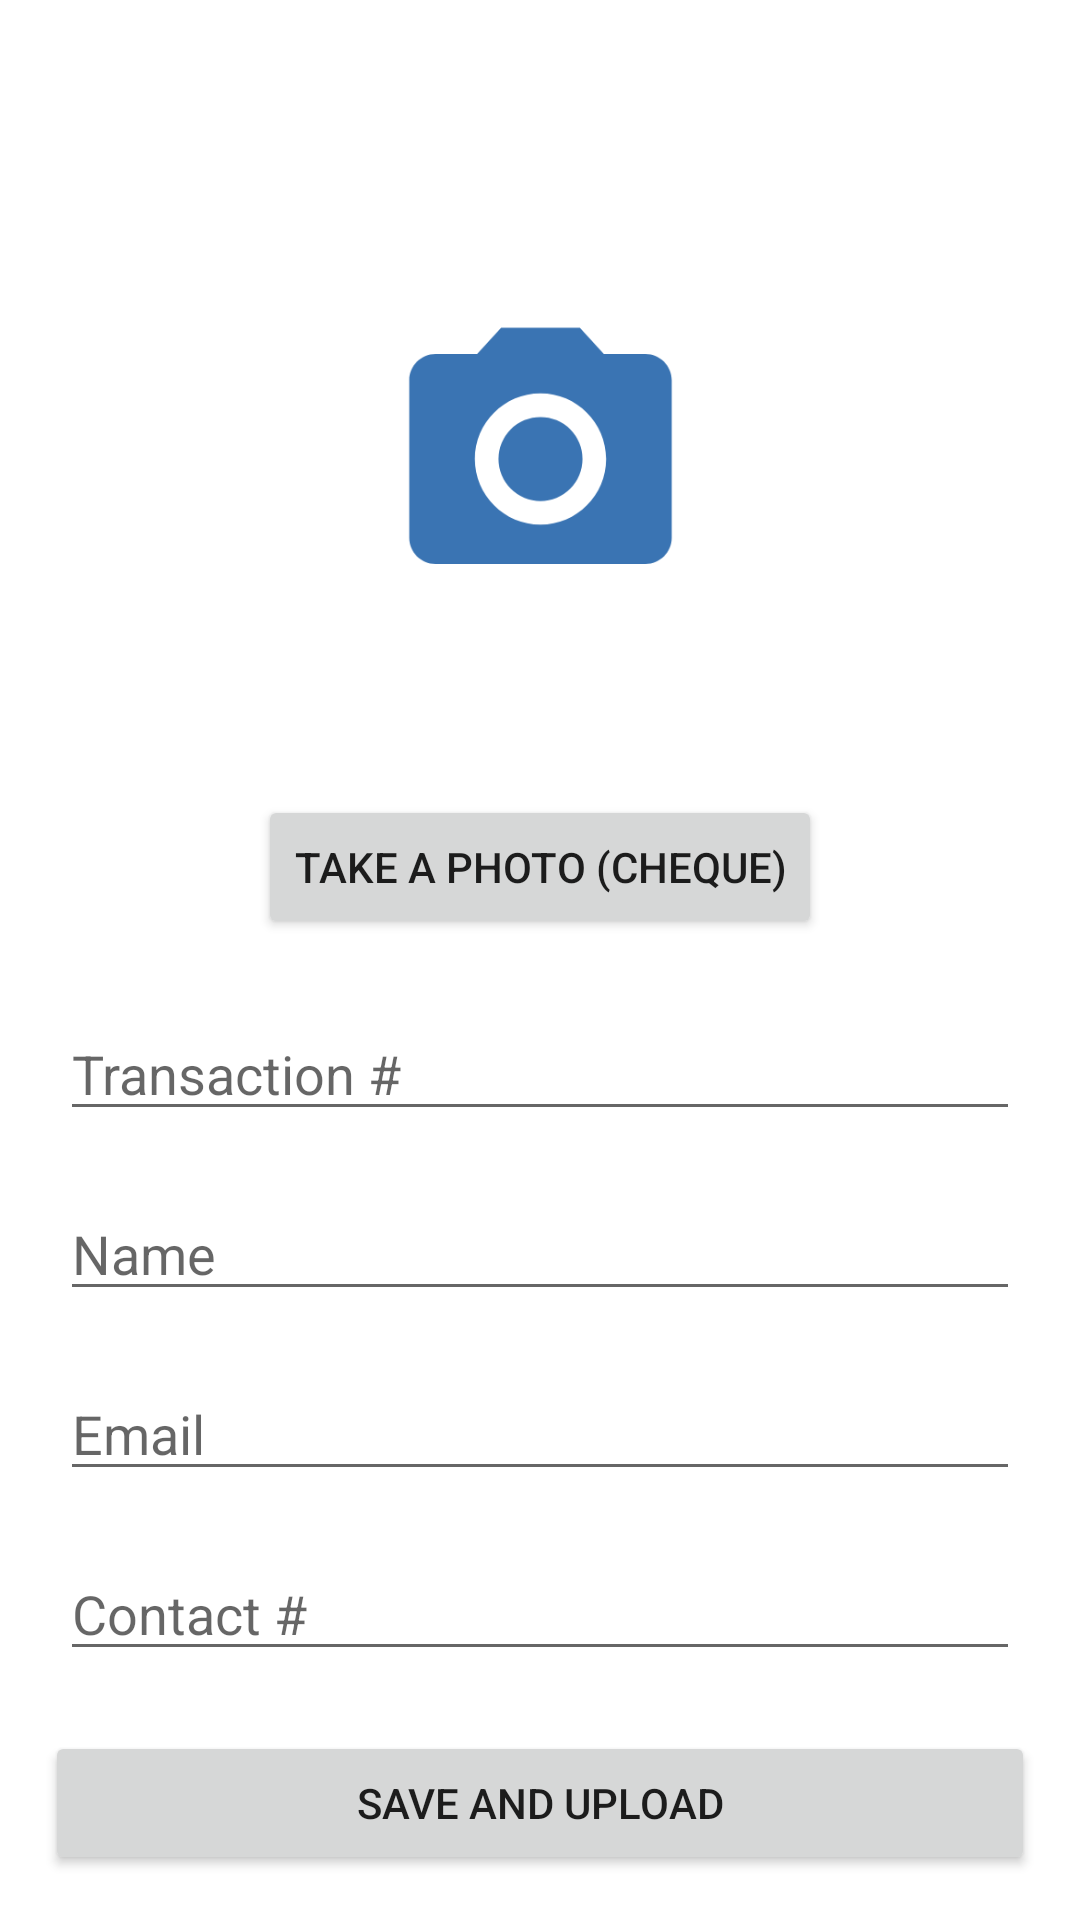

Icons on this 1080px×1920px Android screen, each with its box as rect(x1, y1, x2, y2):
photo camera: rect(409, 327, 672, 564)
